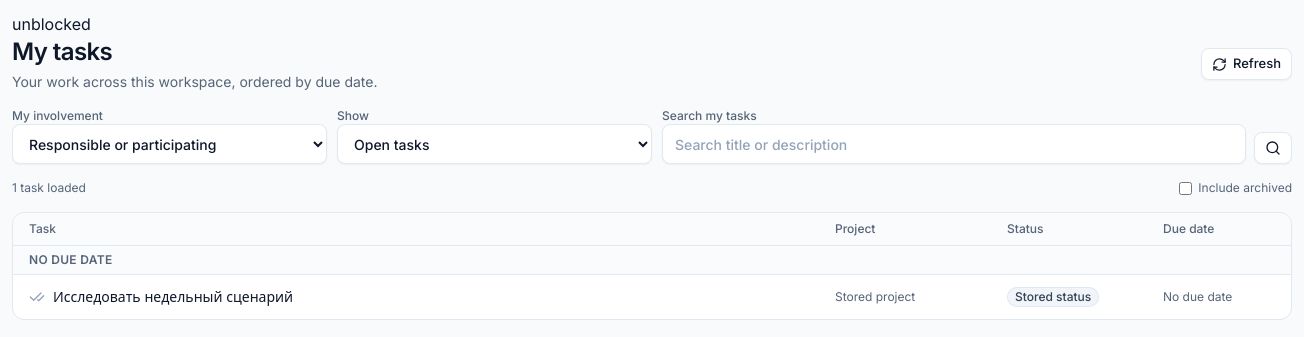
Test: keeps search typing and the current query unchanged when normal router blockers refuse applying the lens
The image size is (1304, 337).
In the field labelled "Search my tasks": point(954, 144) top-left (662, 124), bottom-right (1246, 164), type "Not applied"
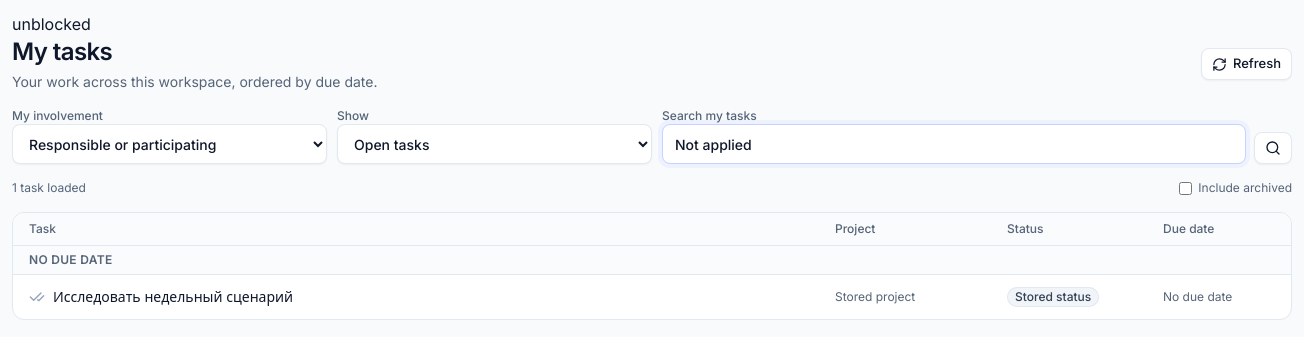
Click the button named "Apply search": point(1273, 148) top-left (1254, 132), bottom-right (1292, 164)
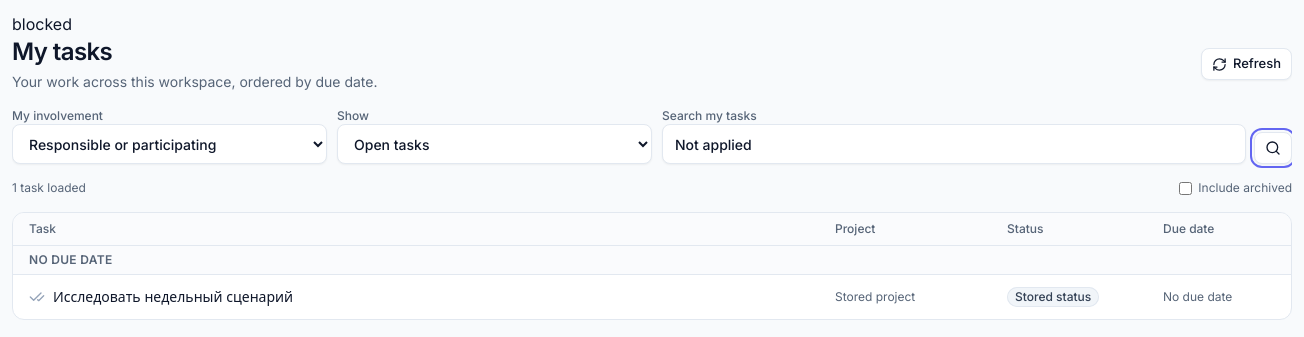
Now the text with test id "blocker" reads "blocked", box top-left (12, 14), bottom-right (72, 34)
